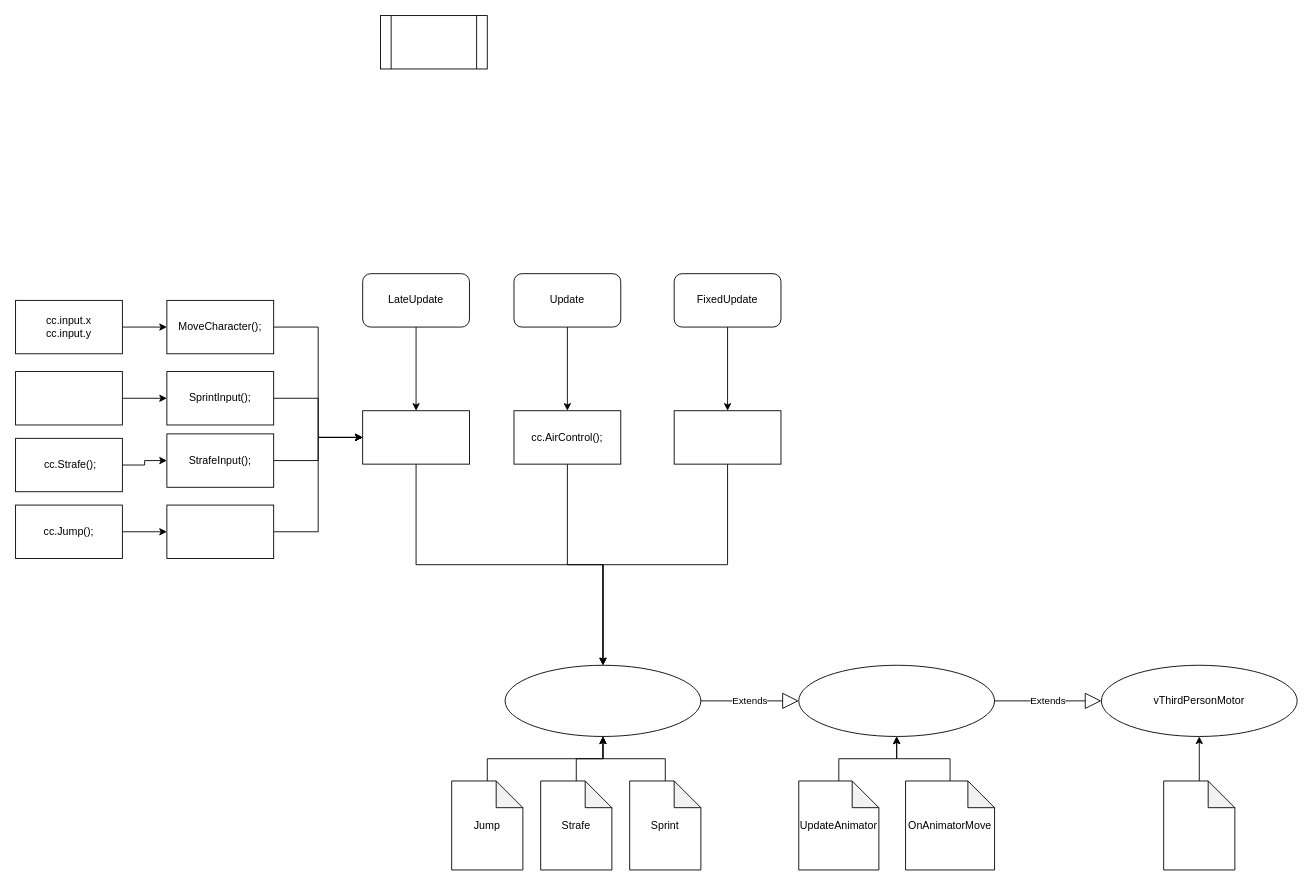
Some shapes in this 1313 by 886 pixel diagram are drawn without their labels. The shapes that lost their labels are listed below. From the top down, each one's centre as x and y in pixels, then its label:
[433,42]: 说明： 方法用‘框’ 类或结构体用‘圆’
[68,398]: cc.Sprint
[415,437]: InputHandle();
[727,437]: cc.UpdateMotor(); cc.UpdateAnimator();
[220,531]: JumpInput();
[602,700]: cc（vThirdPersonController）
[896,700]: vThirdPersonAnimator
[1199,825]: UpdateMotor
